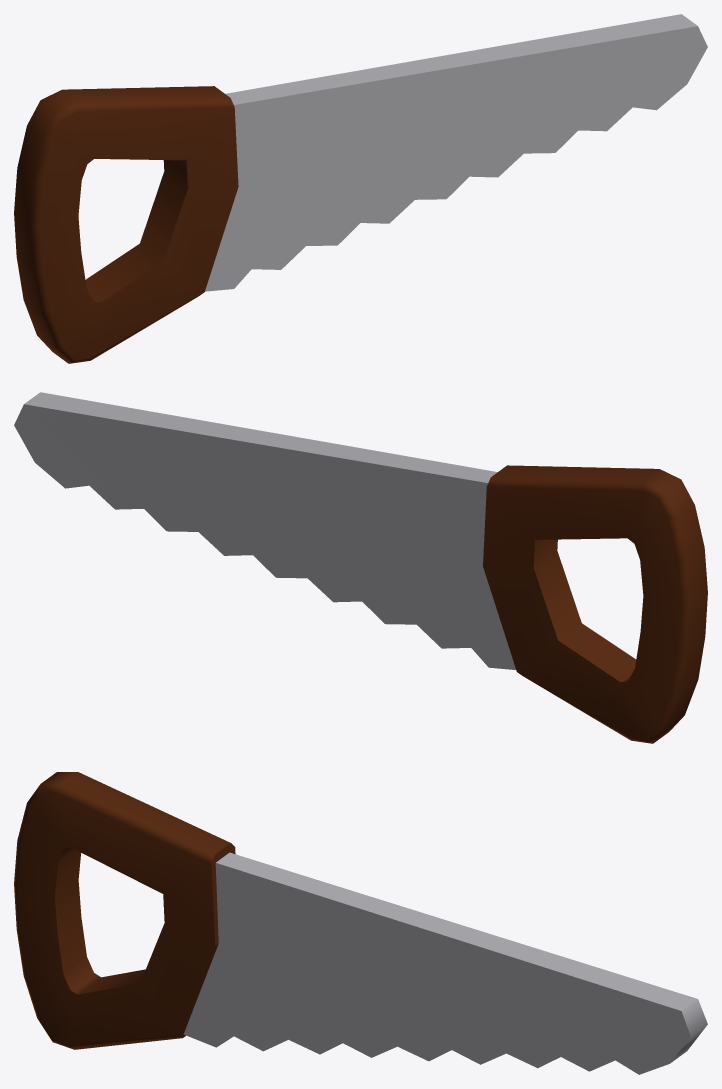
The model's file is Saw.fbx.
3 renders of one model, top to bottom at view 1: azimuth 30°, elevation 25°; view 2: azimuth 150°, elevation 25°; view 3: azimuth 330°, elevation 25°, orthographic.
Parts seen in each view (by area): view 1: Saw; view 2: Saw; view 3: Saw.
Part boxes in pixels (left/top/right/bottom): Saw: left=14, top=14, right=707, bottom=363; Saw: left=14, top=392, right=707, bottom=743; Saw: left=14, top=772, right=707, bottom=1074.
Size of the model in its own units: 76.04 by 4.61 by 28.17.
